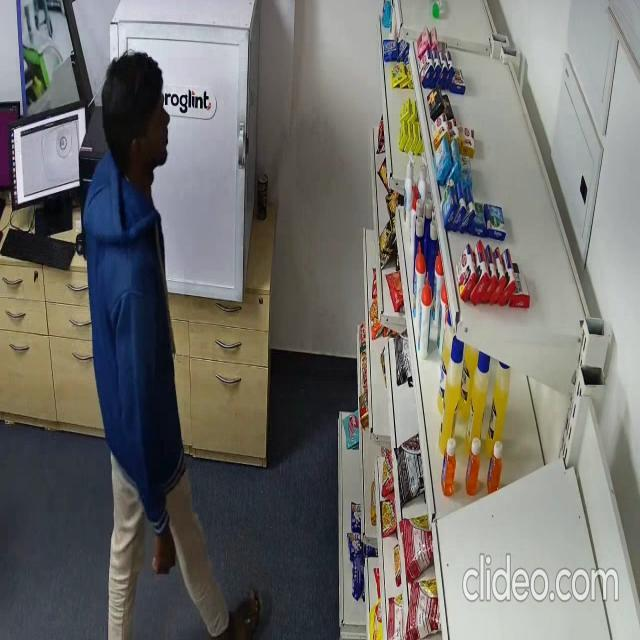normal: (81, 53, 198, 640)
